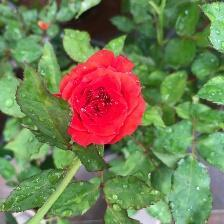rose: (60, 49, 149, 150)
